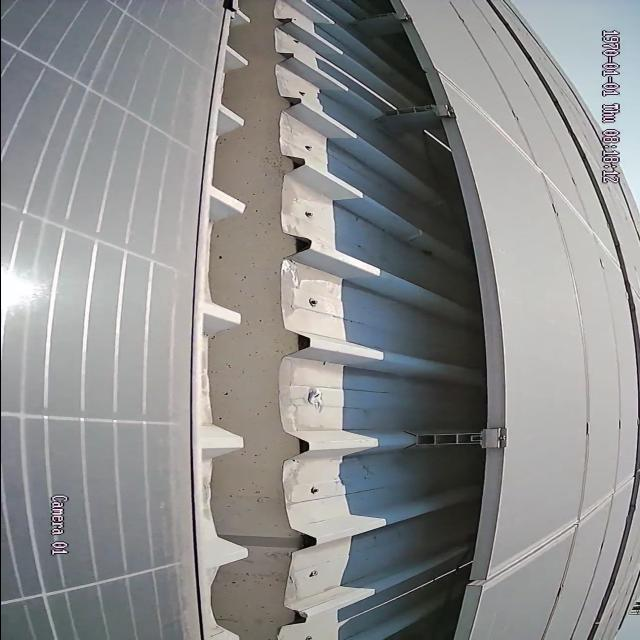interior panel: (435, 69, 616, 267), (485, 474, 629, 593)
outher panel: (191, 3, 496, 640)
